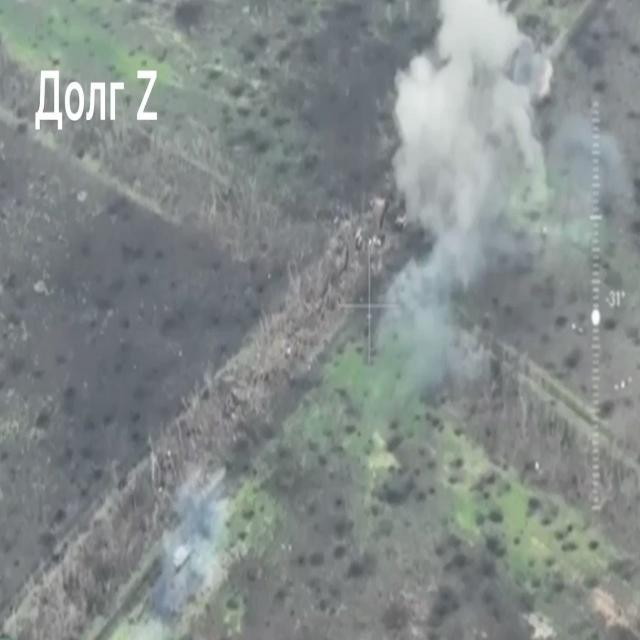cars: (172, 543, 190, 570)
